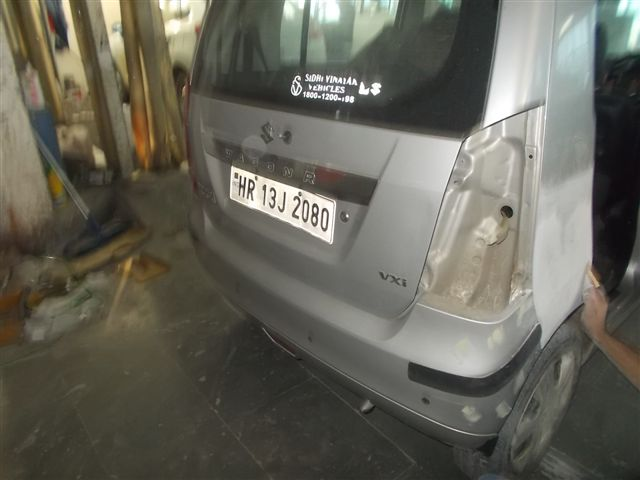Scratch_or_spot: (540, 183, 592, 286)
